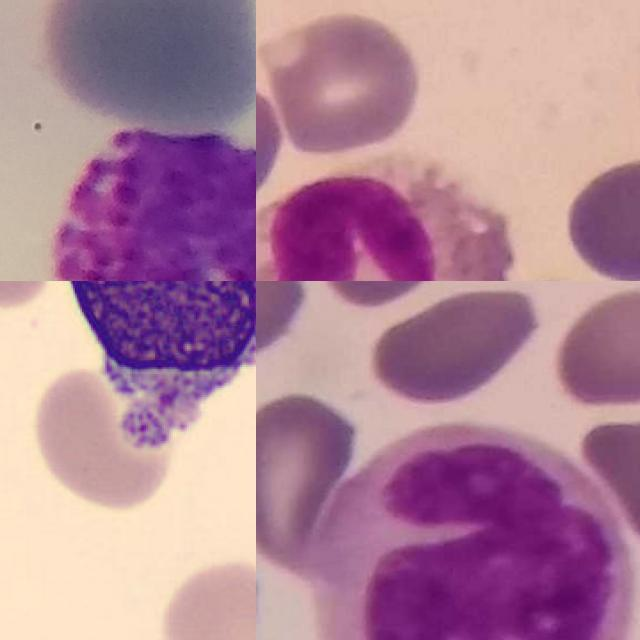Basophil: (53, 124, 256, 281)
Eosinophil: (256, 156, 510, 281)
Lymphocyte: (37, 281, 256, 469)
Monocyte: (306, 420, 634, 640)
RBC: (25, 360, 187, 515), (153, 554, 256, 640)
